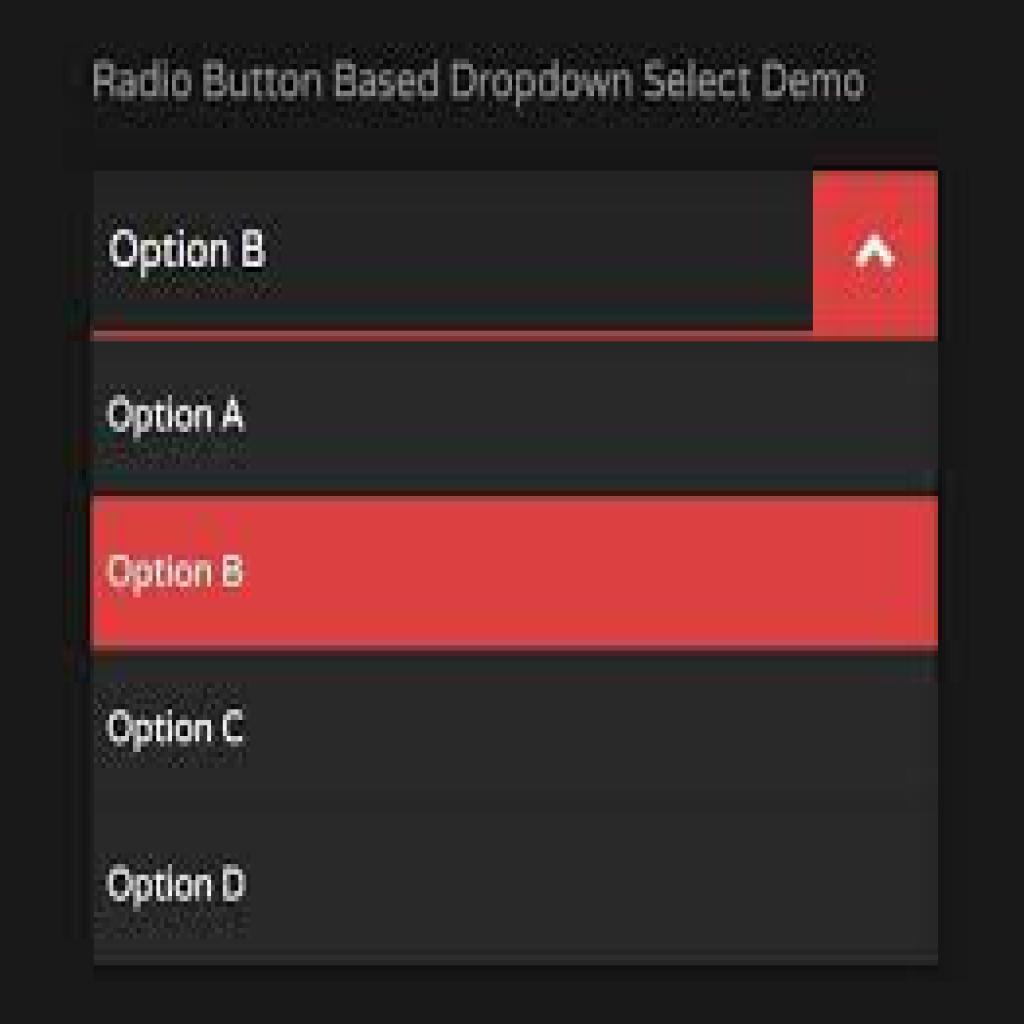button: (93, 496, 939, 648)
dropdown: (90, 174, 937, 339)
label: (101, 699, 249, 756), (100, 860, 250, 913), (101, 389, 245, 443)
